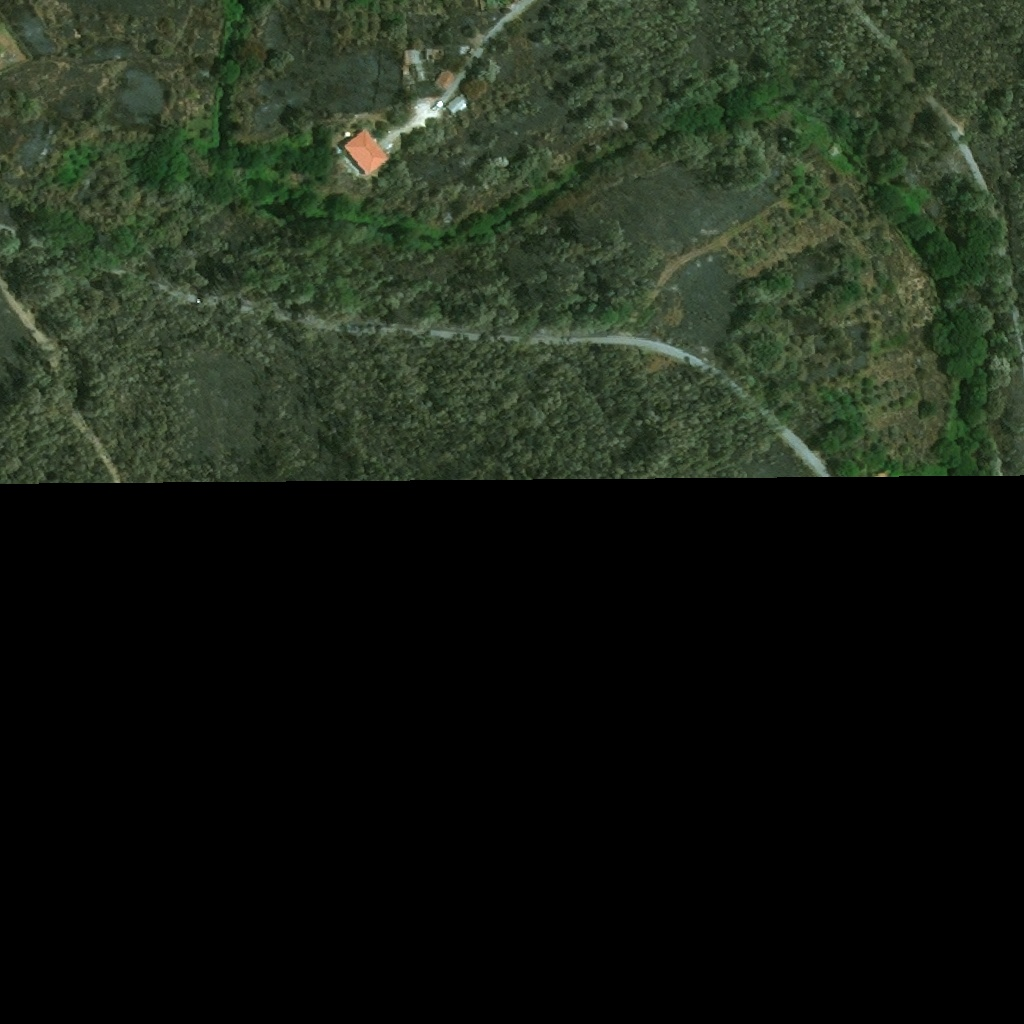0 no-damage: (351, 156, 382, 186), (443, 93, 470, 118)
1 minor-damage: (434, 66, 457, 92)
3 destroyed: (403, 49, 426, 80), (475, 8, 503, 30), (461, 0, 478, 12)
